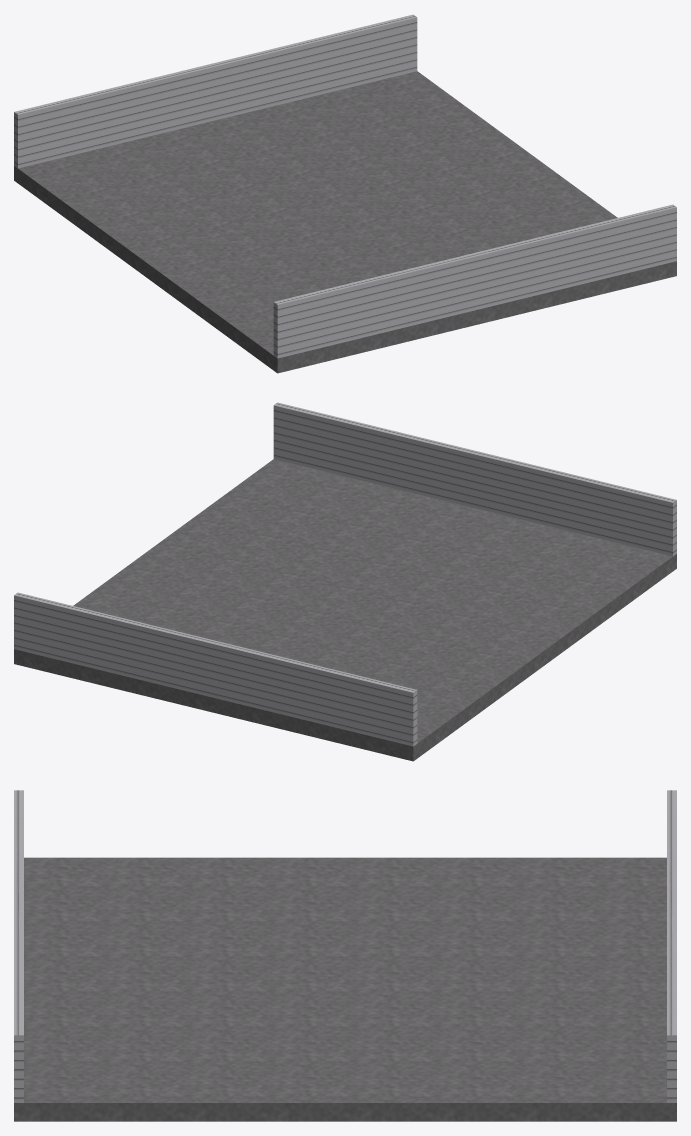
Rendered from bridge_small_residential.glb.
The picture shows the model from 3 angles, top to bottom: view 1: azimuth 30°, elevation 25°; view 2: azimuth 150°, elevation 25°; view 3: azimuth 270°, elevation 25°; orthographic projection. The views are drawn at different scales.
Visible parts, largest first — view 1: bridge_small_residential-col; view 2: bridge_small_residential-col; view 3: bridge_small_residential-col.
Boxes of the visible parts, left/top/right/bottom form: bridge_small_residential-col: left=14, top=14, right=676, bottom=373; bridge_small_residential-col: left=14, top=402, right=676, bottom=761; bridge_small_residential-col: left=14, top=790, right=676, bottom=1121.
Bounding box in the file's own units: 7 × 1.15 × 8.
2 materials, 2 textured.
